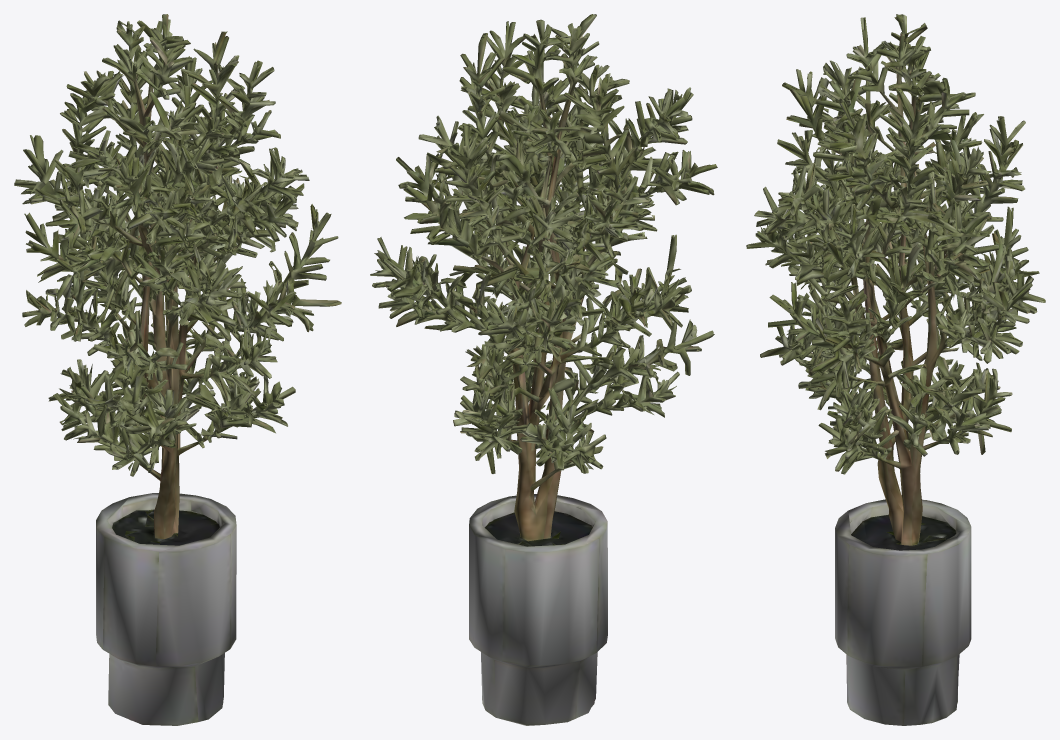
The model's file is fm_olive_tree2.glb.
3 renders of one model, left to right at view 1: azimuth 30°, elevation 25°; view 2: azimuth 150°, elevation 25°; view 3: azimuth 270°, elevation 25°, orthographic. The views are drawn at different scales.
Parts seen in each view (by area): view 1: geometry_0; view 2: geometry_0; view 3: geometry_0.
Boxes of the visible parts, x1,y1,x2,y2 form: geometry_0: (14,14,341,725); geometry_0: (370,14,717,725); geometry_0: (746,14,1045,725).
Bounding box in the file's own units: 0.4282 × 1 × 0.4046.
Materials: 1 (1 with a texture image).
